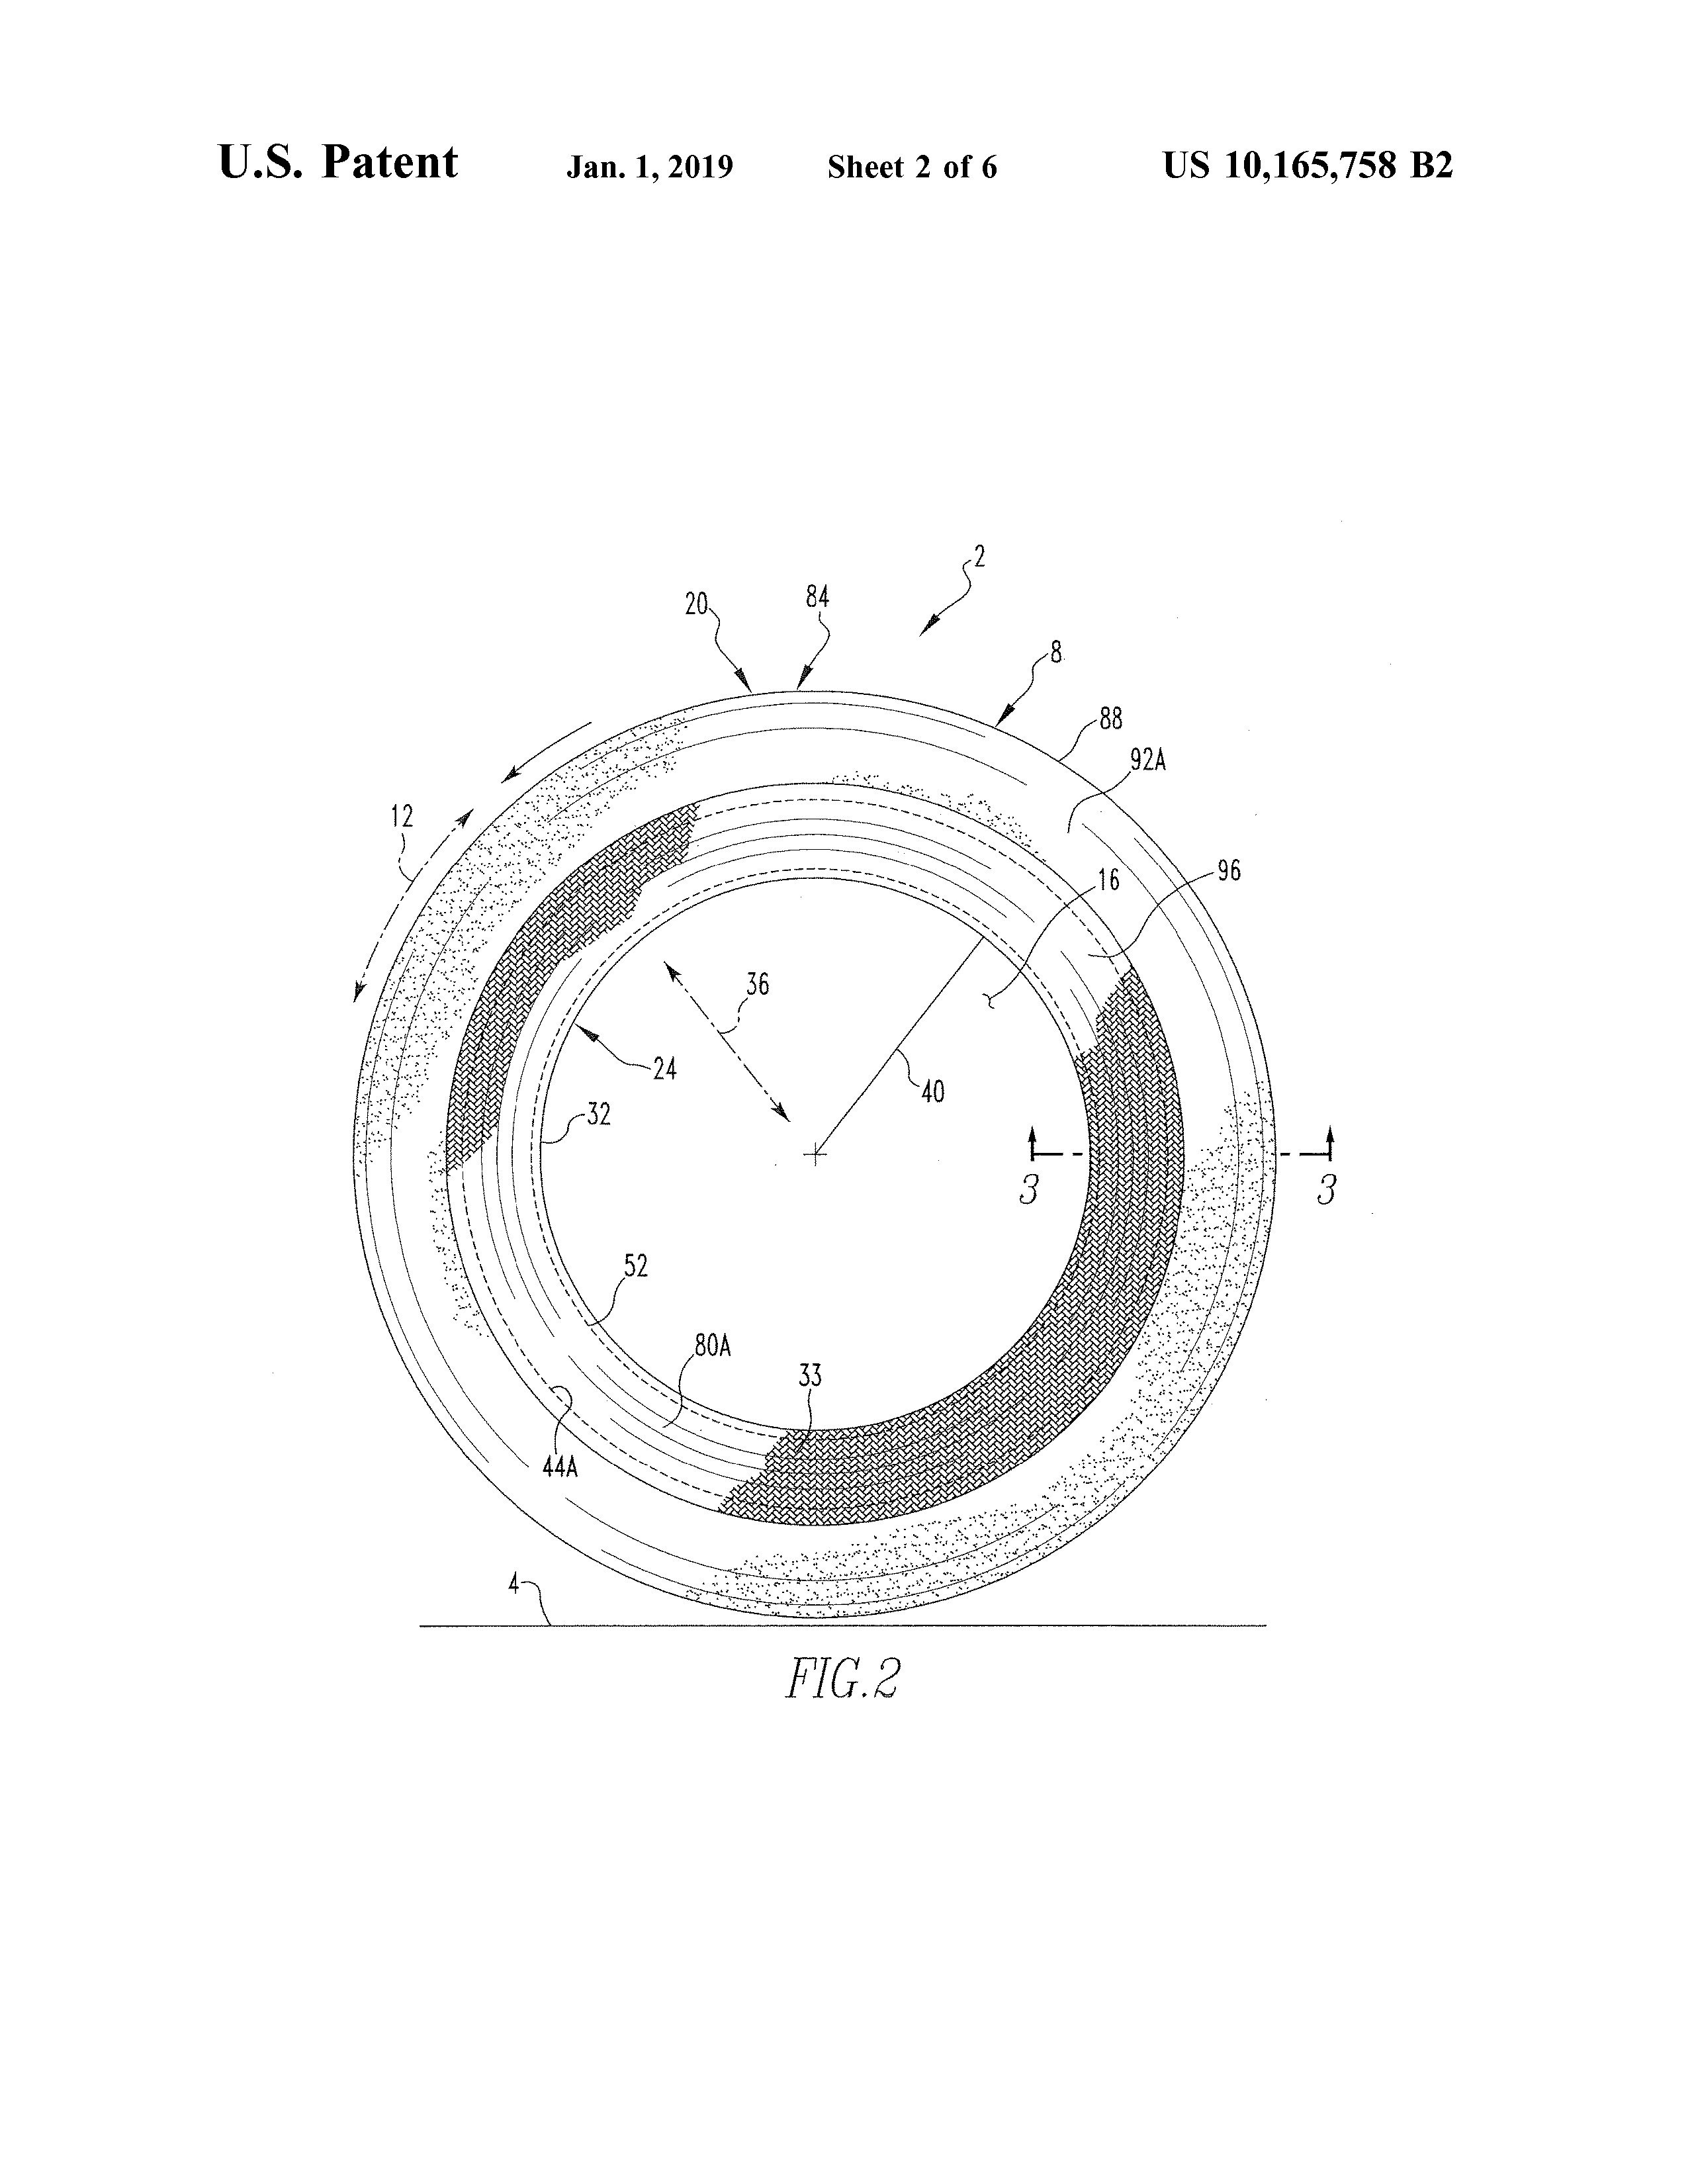patent image: (302, 480, 1447, 1803)
